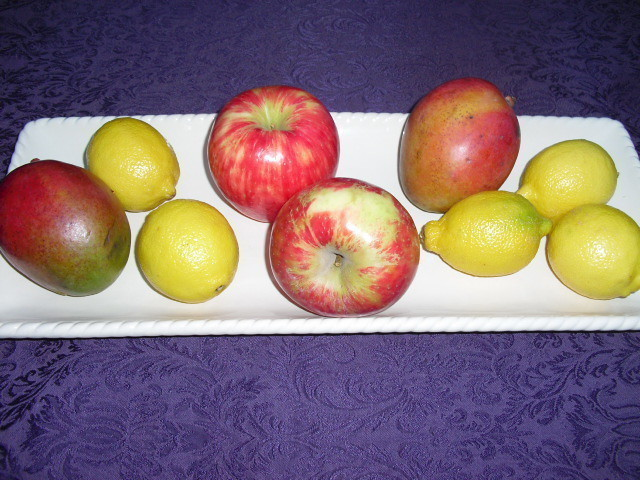apple: (265, 179, 425, 322), (204, 79, 346, 222)
